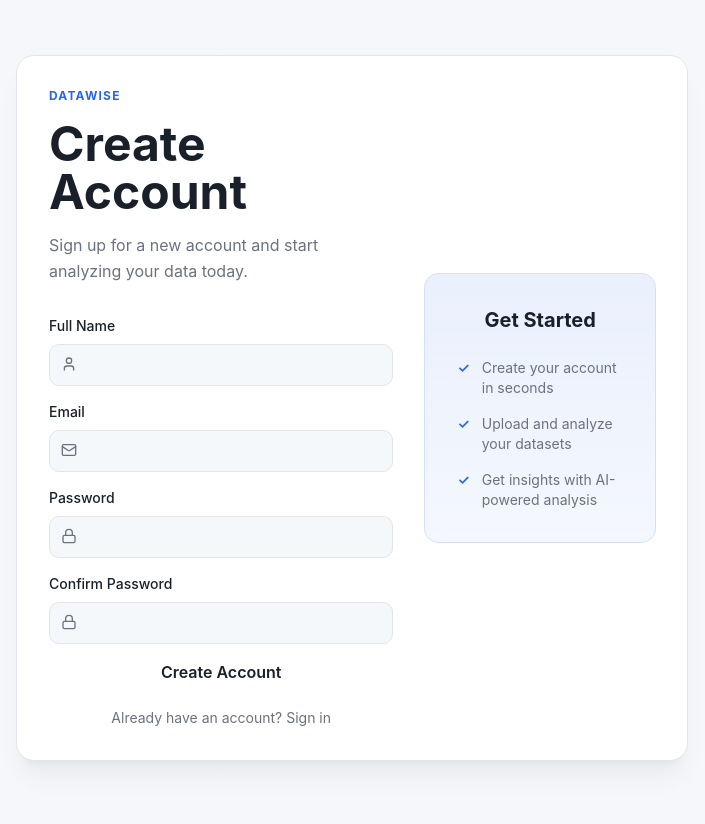
Test: SignupPage › rejects an invalid email
Type "Alice" into the field labelled "Full Name" at (221, 365), box [49,344,393,386]
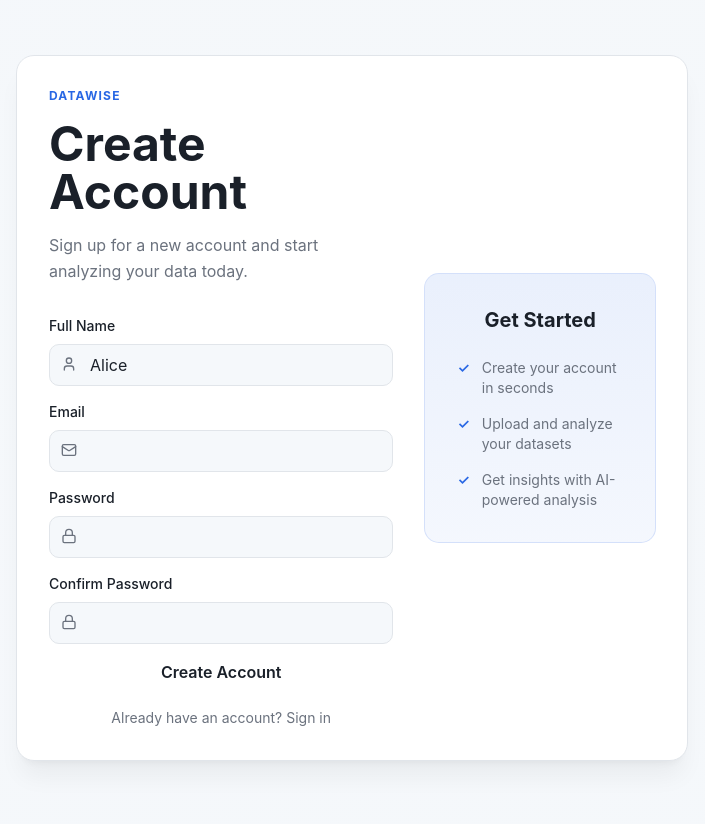
Type "not-an-email" into the field labelled "Email" at (221, 451), box [49,430,393,472]
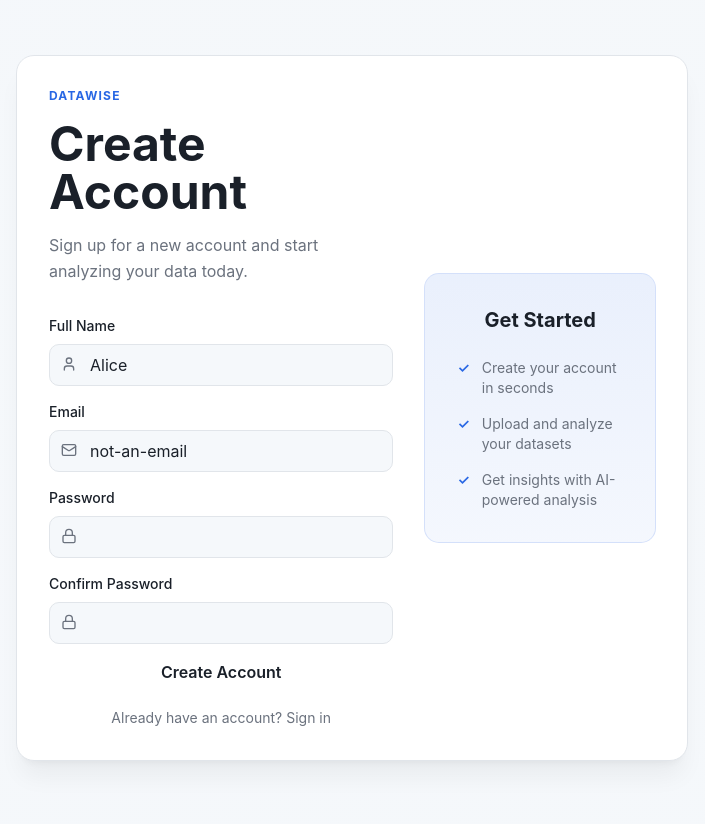
Type "password123" into the password field labelled "Password" at (221, 537), box [49,516,393,558]
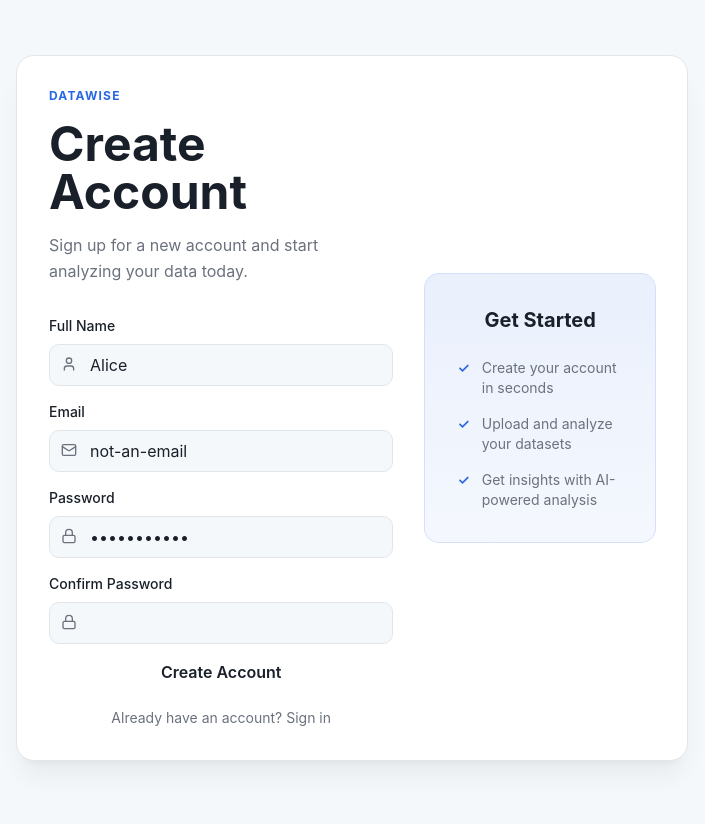
Type "password123" into the password field labelled "Confirm Password" at (221, 623), box [49,602,393,644]
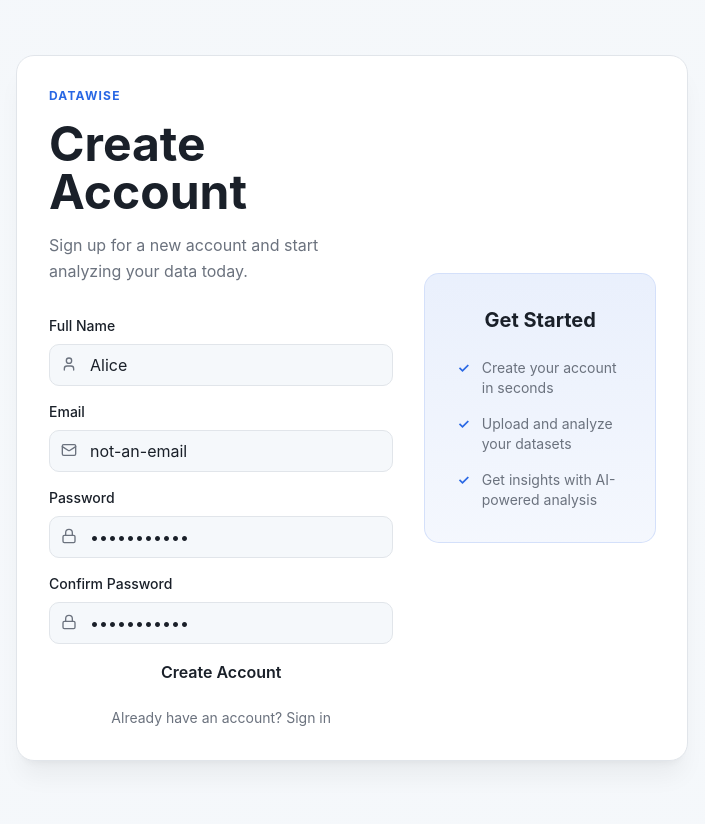
Submit the form "Full Name Email Password Confirm Password Create Account", box [49,308,393,684]
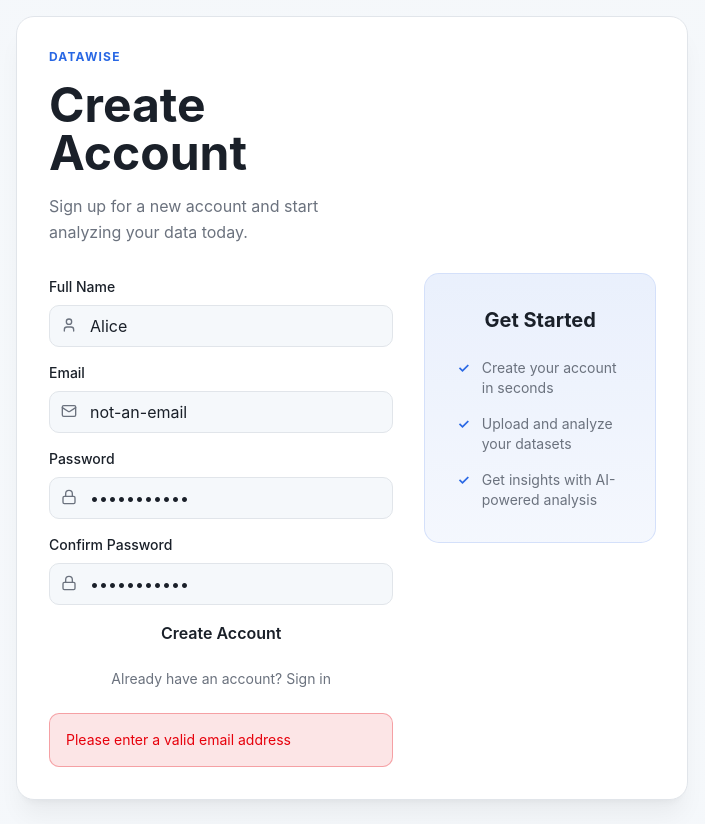
Expected: the text "Please enter a valid email address" is shown, [49,713,393,767]
